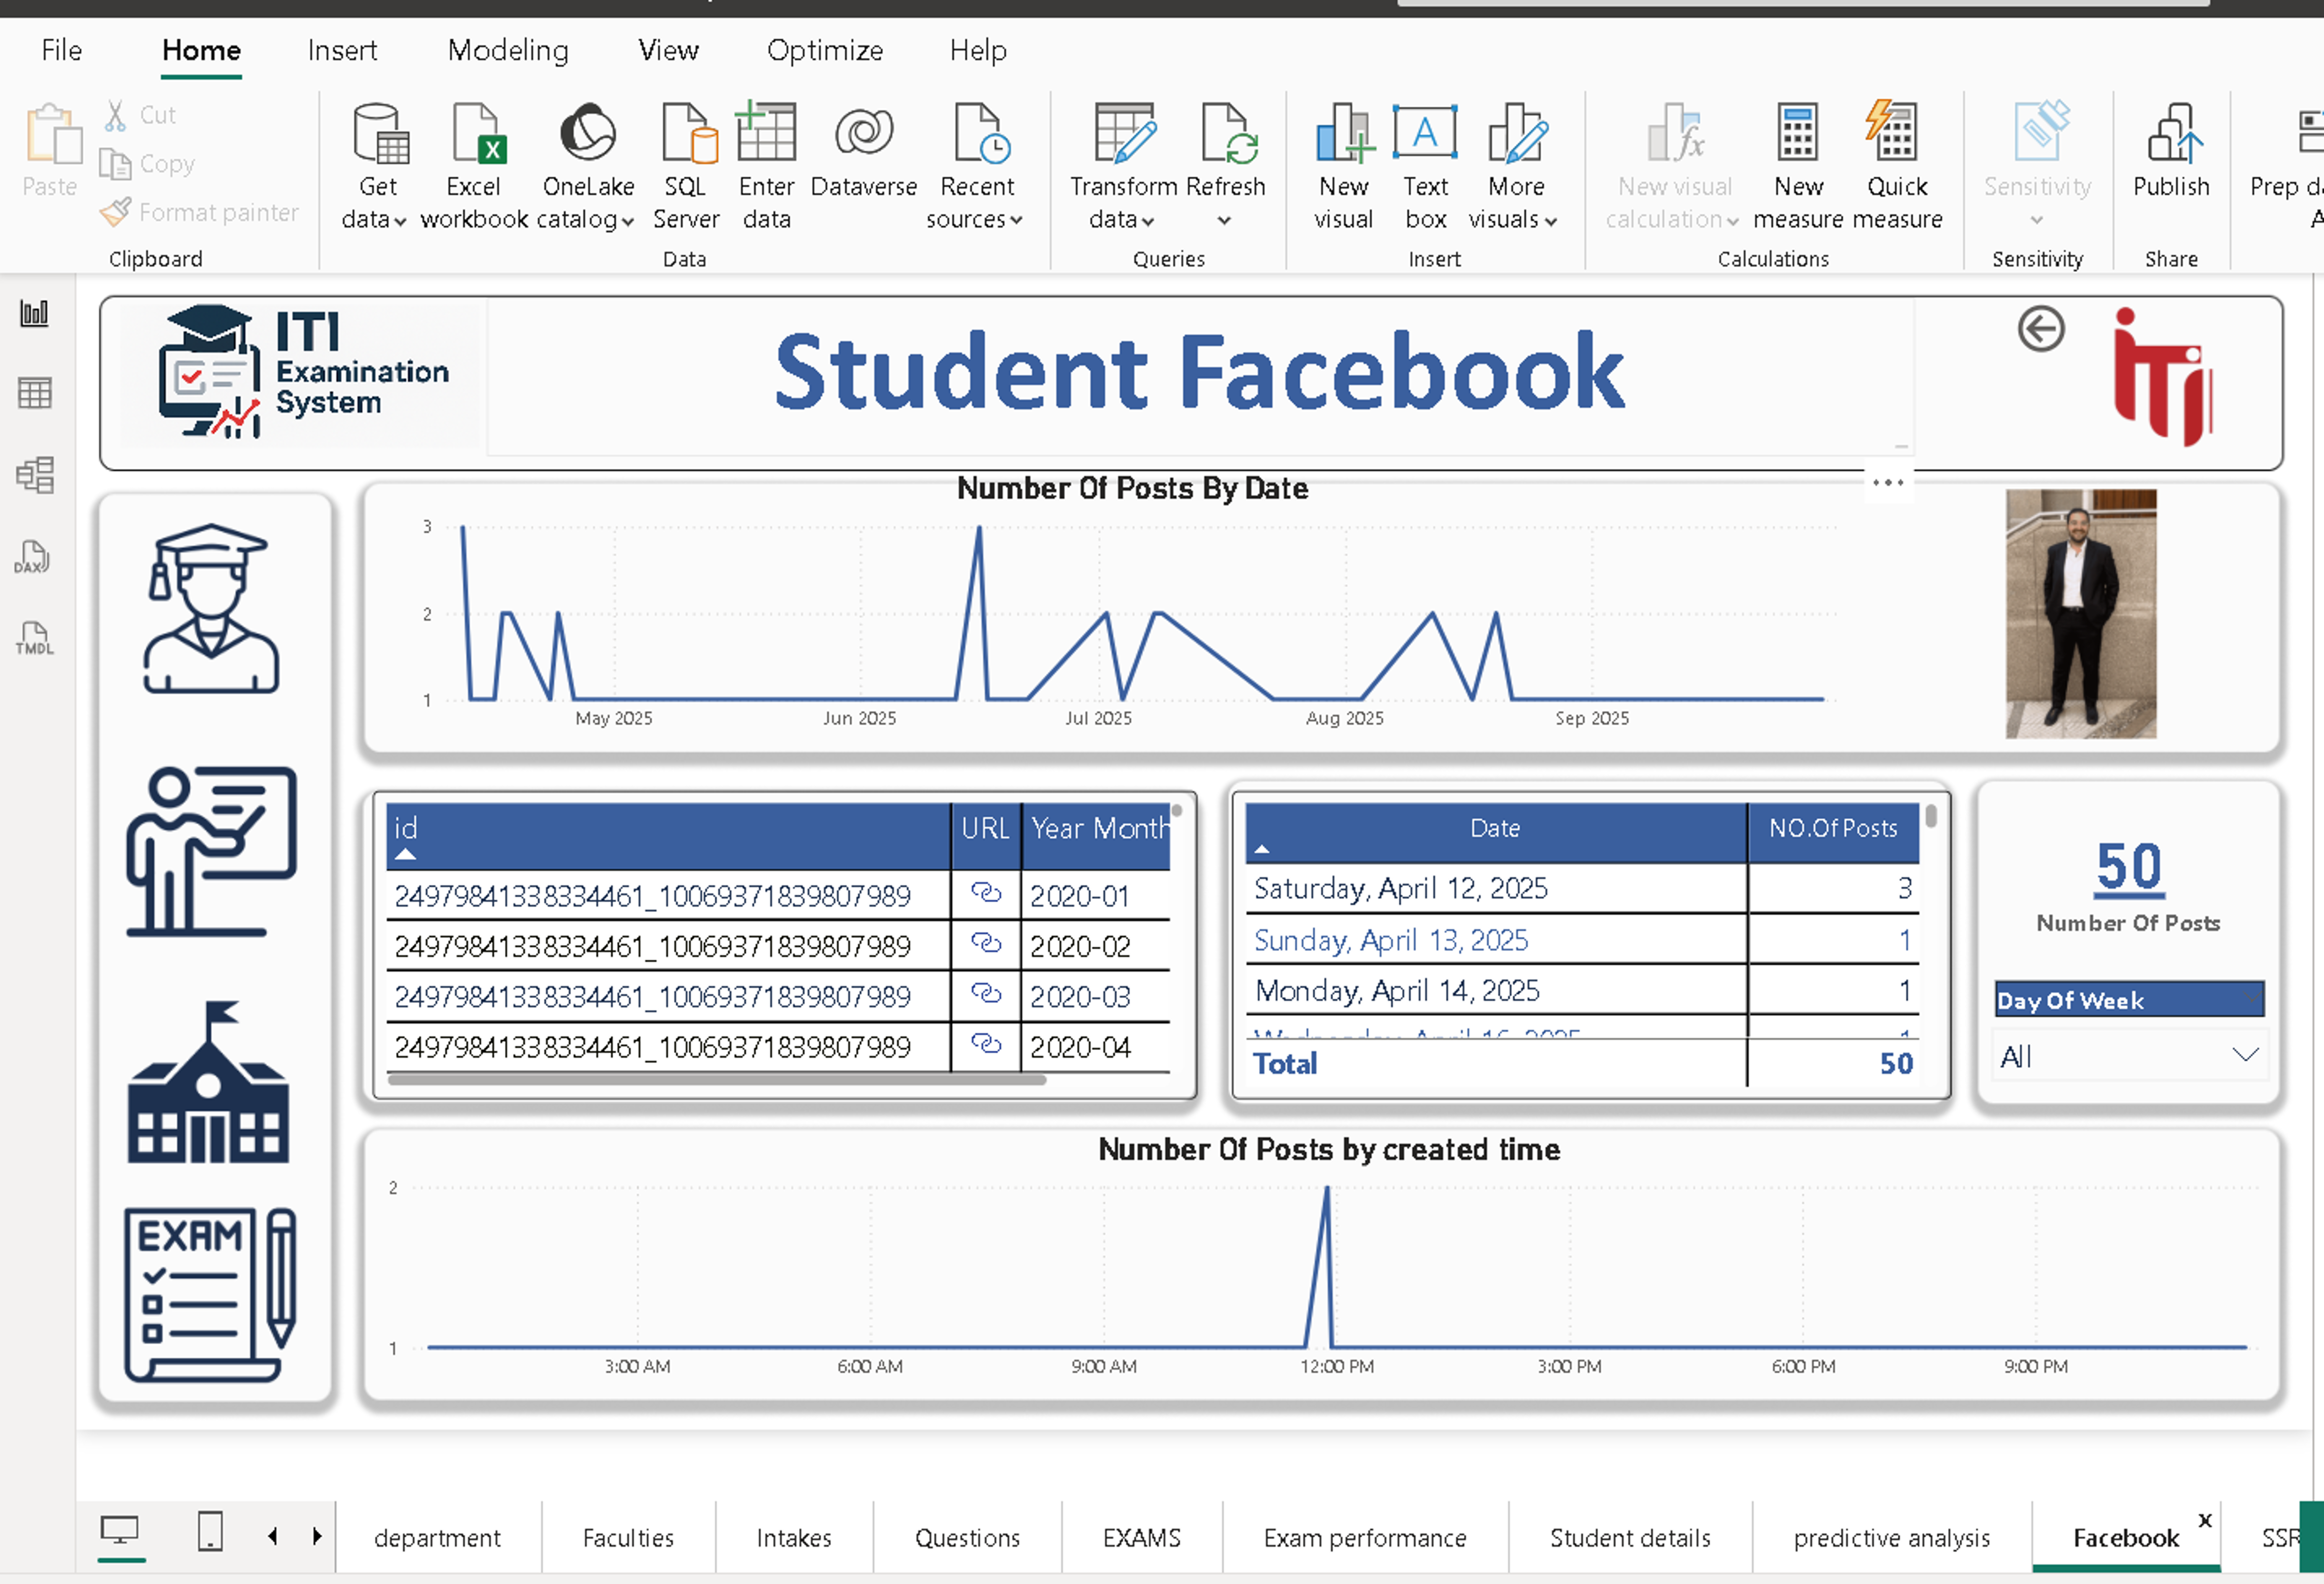

Layout of this report page (visuals, bound fields, positions):
{"tool":"powerbi","page":{"name":"Facebook","canvas":[1450,750],"ordinal":20},"visuals":[{"type":"card","fields":{"Values":["Social_Media.NO.Of Posts"]},"box":[1232,328,200,126],"z":0},{"type":"tableEx","fields":{"Values":["Social_Media.Date","Social_Media.NO.Of Posts"]},"box":[750.2,336.3,461.5,199.4],"z":1000},{"type":"lineChart","title":"Number Of Posts By Date","fields":{"Y":["Social_Media.NO.Of Posts"],"Category":["Social_Media.Date"]},"box":[210.5,127.8,949.5,179.3],"z":2000},{"type":"tableEx","fields":{"Values":["Social_Media.id","Social_Media.Post_URL","Dim_Date.YearMonth"]},"box":[192,336,534,200],"z":3000},{"type":"lineChart","fields":{"Y":["Social_Media.NO.Of Posts"],"Category":["Social_Media.created_time"]},"box":[192.1,555.8,1240.2,171.5],"z":4000},{"type":"slicer","fields":{"Values":["Dim_Date.DayOfWeekName"]},"box":[1232,454,200,98],"z":5000},{"type":"textbox","title":"Student Facebook","box":[265.9,15.4,926.3,102.9],"z":6000},{"type":"image","box":[1274,16,158,104],"z":7000},{"type":"image","box":[23.4,16.1,242.8,102.4],"z":8000},{"type":"actionButton","box":[1253.5,15.6,99.8,40.5],"z":9000},{"type":"image","box":[27.4,289.3,120.1,171.5],"z":10000},{"type":"image","box":[24,467.1,123.5,114.9],"z":11000},{"type":"image","box":[27.4,152.7,120.1,130.4],"z":12000},{"type":"image","box":[13.7,588.4,147.5,149.2],"z":13000},{"type":"image","box":[1180,136,240,171],"z":14000}]}

Visuals, with their boxes on the page's 1450x750 design canvas (x1, y1, x2, y2). These are canvas units, not pixel positions in the 2324x1584 screenshot, which may show the page scaled, cropped or inside an application window:
card - Social_Media.NO.Of Posts: locate(1232, 328, 1432, 454)
tableEx - Social_Media.Date x Social_Media.NO.Of Posts: locate(750, 336, 1212, 536)
"Number Of Posts By Date" lineChart: locate(210, 128, 1160, 307)
tableEx - Social_Media.id x Social_Media.Post_URL: locate(192, 336, 726, 536)
lineChart - Social_Media.NO.Of Posts x Social_Media.created_time: locate(192, 556, 1432, 727)
slicer - Dim_Date.DayOfWeekName: locate(1232, 454, 1432, 552)
"Student Facebook" textbox: locate(266, 15, 1192, 118)
image: locate(1274, 16, 1432, 120)
image: locate(23, 16, 266, 118)
actionButton: locate(1254, 16, 1353, 56)
image: locate(27, 289, 148, 461)
image: locate(24, 467, 148, 582)
image: locate(27, 153, 148, 283)
image: locate(14, 588, 161, 738)
image: locate(1180, 136, 1420, 307)
